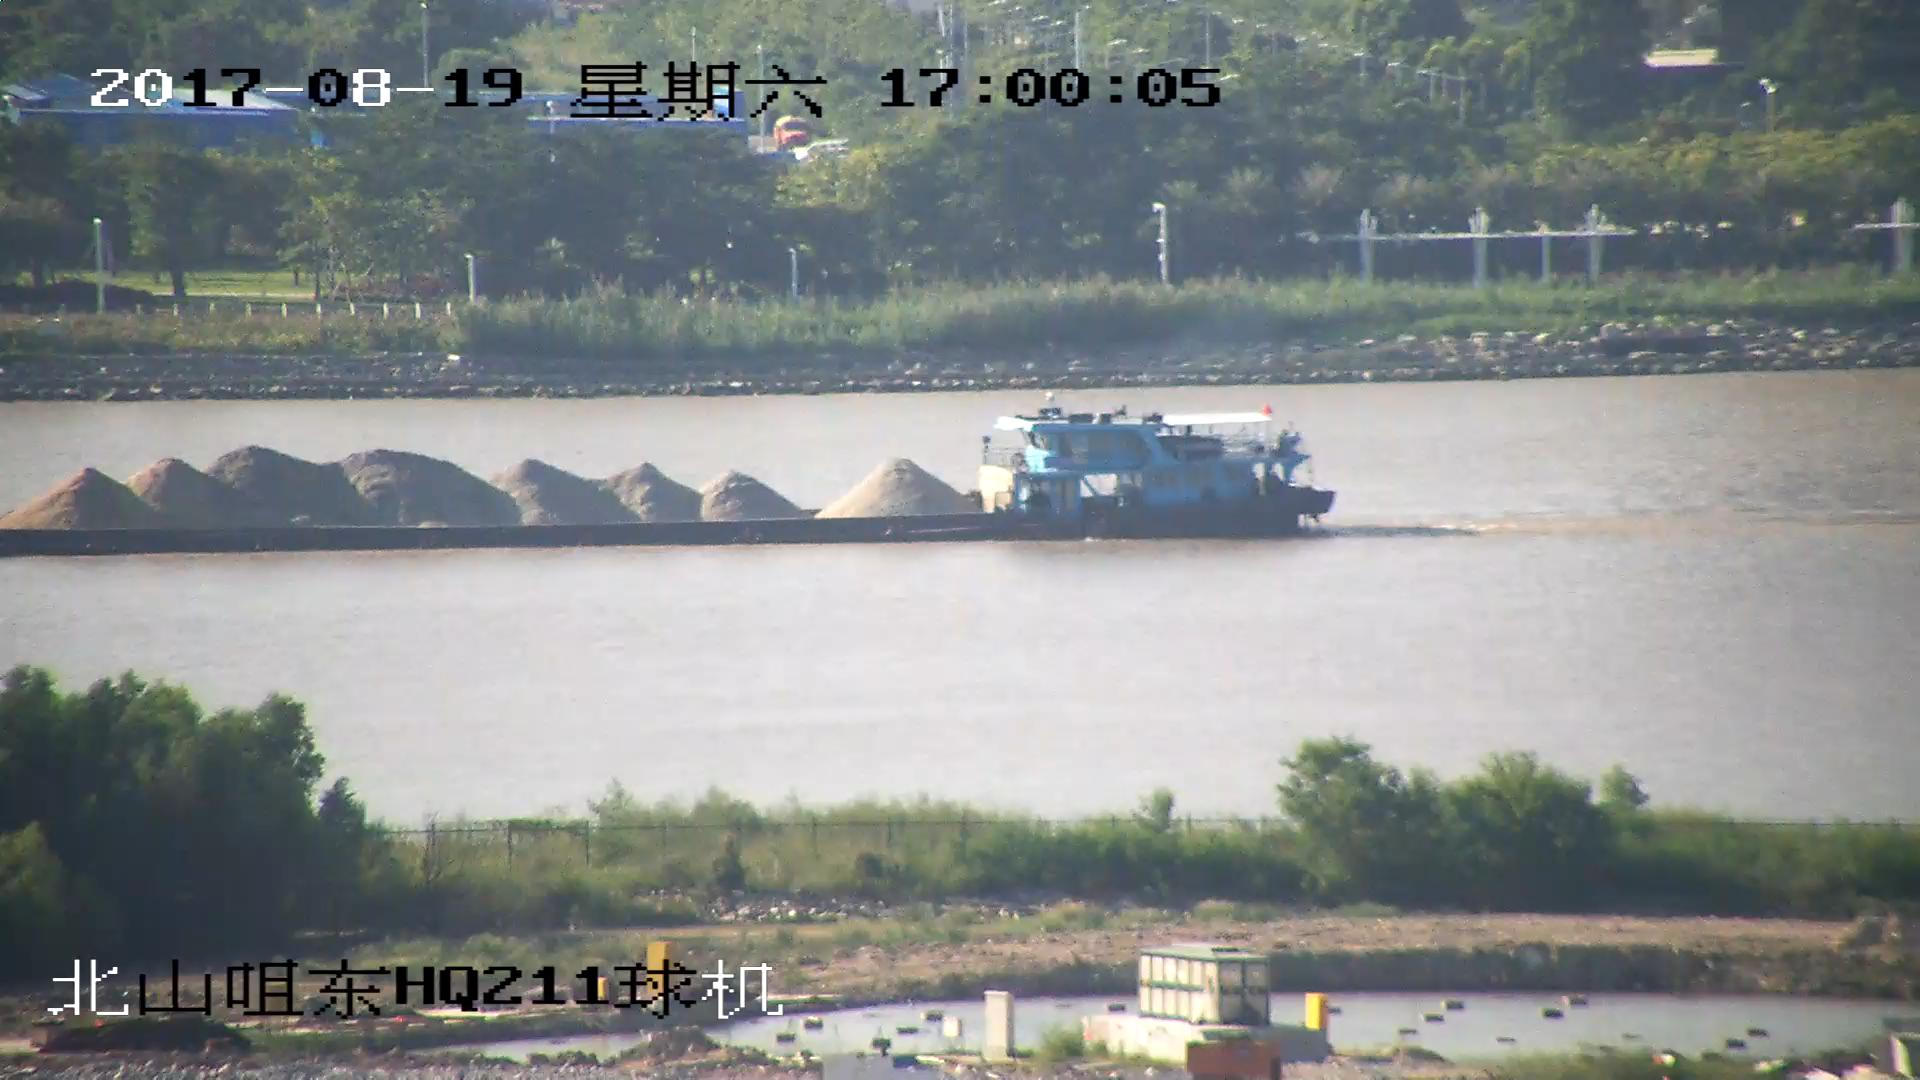ore carrier: (1, 387, 1338, 556)
